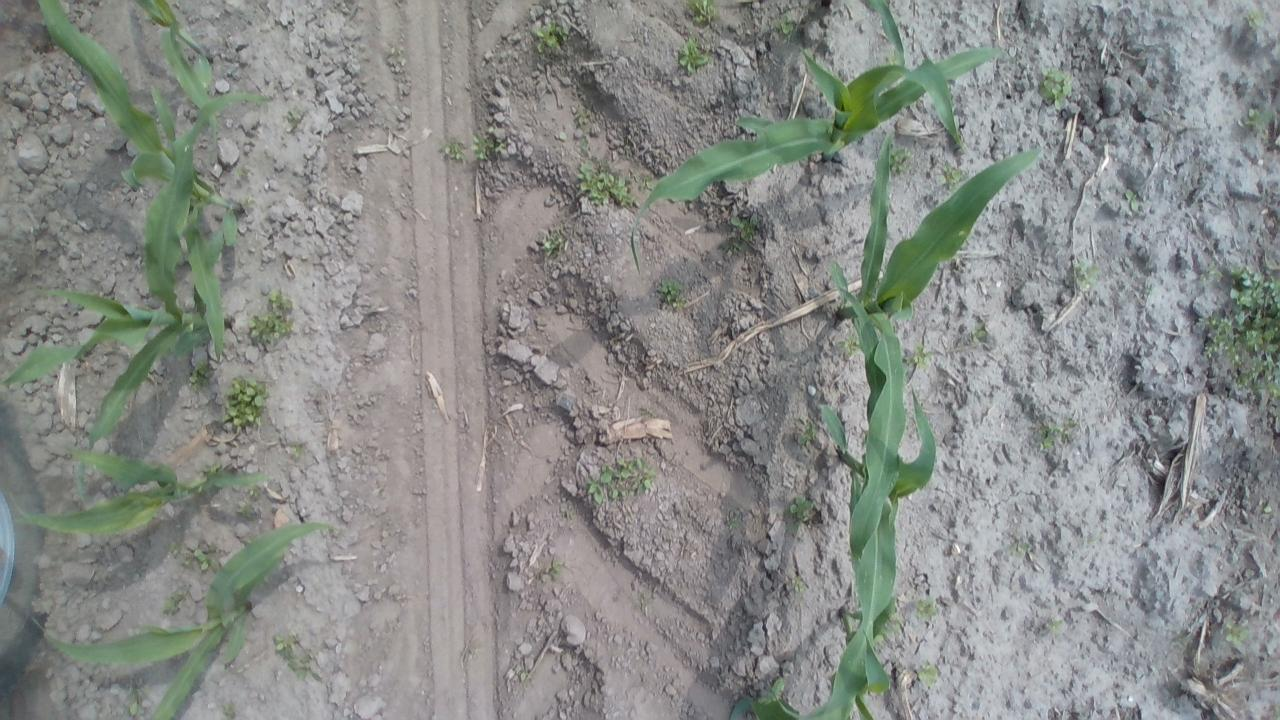Maize: (811, 130, 1052, 567), (0, 85, 271, 447), (629, 28, 1024, 276), (32, 0, 244, 369), (20, 517, 342, 720), (807, 342, 944, 656), (734, 511, 910, 720), (13, 437, 284, 538), (130, 0, 243, 138), (825, 551, 911, 720), (848, 0, 912, 58)
Weeds: (1193, 258, 1280, 404), (584, 446, 661, 507), (574, 157, 642, 209), (248, 286, 296, 354), (223, 372, 271, 435), (274, 629, 320, 682), (1035, 64, 1077, 111), (530, 14, 574, 56), (1038, 412, 1082, 454), (782, 493, 818, 540), (470, 122, 510, 164), (678, 35, 714, 78), (910, 592, 949, 630), (1220, 614, 1256, 654), (1068, 257, 1106, 294), (654, 274, 690, 312), (1236, 101, 1274, 135), (121, 680, 151, 720), (884, 142, 916, 177), (184, 542, 221, 572), (727, 212, 759, 246), (533, 556, 567, 588), (903, 341, 937, 373), (684, 0, 722, 28), (758, 675, 792, 704), (938, 158, 965, 194), (914, 660, 946, 690), (537, 228, 570, 256), (772, 10, 799, 43), (964, 317, 991, 350), (190, 356, 213, 394), (436, 134, 466, 162), (1004, 535, 1036, 561), (836, 330, 863, 360), (382, 42, 412, 68), (160, 588, 187, 616), (509, 660, 532, 692), (1242, 5, 1269, 31), (1042, 613, 1070, 638), (1118, 184, 1142, 213), (796, 415, 819, 445), (720, 505, 746, 530), (788, 572, 810, 599), (285, 104, 306, 132), (282, 442, 308, 462), (638, 170, 658, 196), (461, 640, 482, 664), (232, 161, 254, 183), (636, 584, 654, 610), (236, 500, 259, 520), (574, 103, 592, 128), (1258, 496, 1274, 522), (576, 132, 594, 154), (220, 699, 238, 720), (202, 462, 224, 479), (1083, 531, 1105, 547), (248, 483, 266, 500), (1140, 281, 1156, 300), (1264, 701, 1280, 720), (556, 128, 572, 145), (882, 53, 902, 66)
